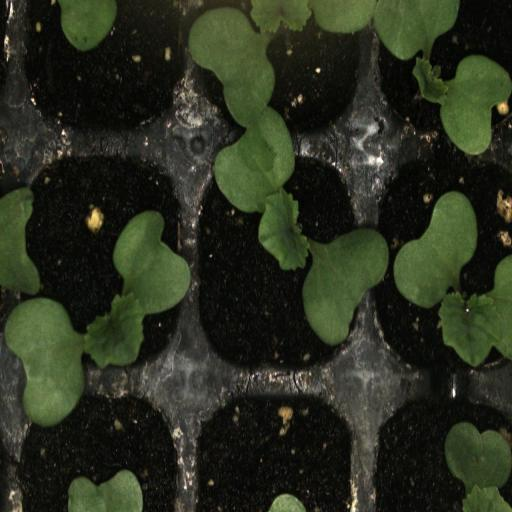seedling: (5, 137, 185, 386), (186, 138, 366, 383), (365, 136, 512, 378), (188, 0, 367, 135), (365, 0, 512, 137)
